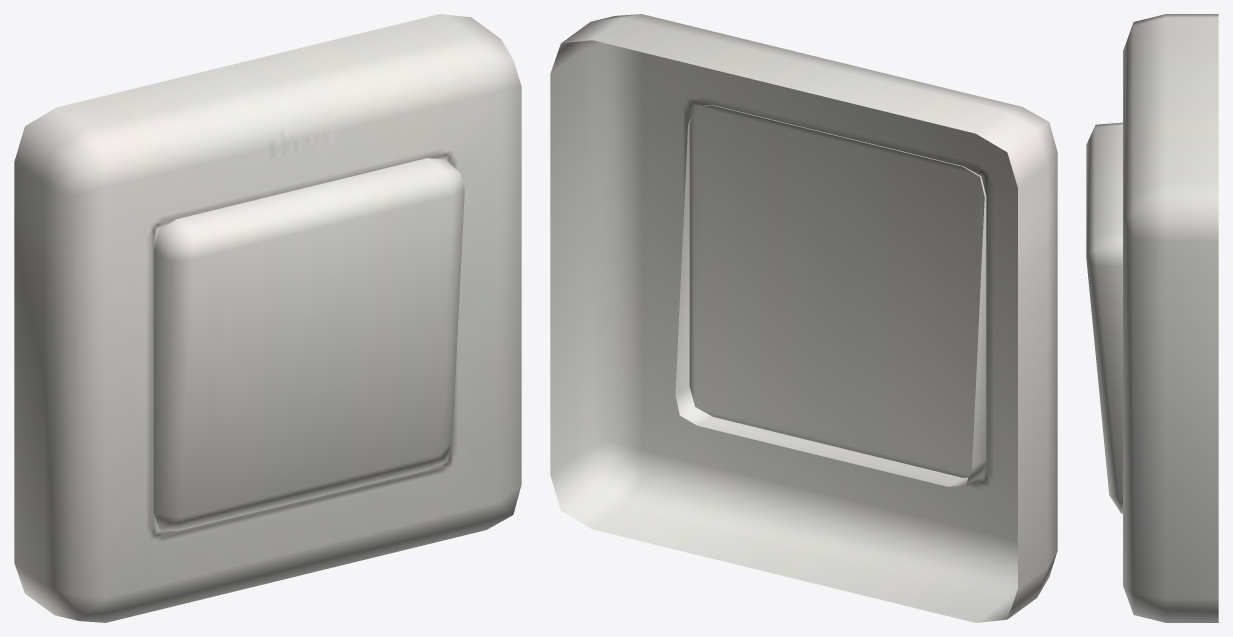
File: 3D004_Office_LightKey.FBX
3 renders of one model, left to right at view 1: azimuth 30°, elevation 25°; view 2: azimuth 150°, elevation 25°; view 3: azimuth 270°, elevation 25°, orthographic. The views are drawn at different scales.
Parts seen in each view (by area): view 1: 3D004_Office_LightKey1, 3D004_Office_LightKey2; view 2: 3D004_Office_LightKey1, 3D004_Office_LightKey2; view 3: 3D004_Office_LightKey1, 3D004_Office_LightKey2.
Part boxes in pixels (left/top/right/bottom): 3D004_Office_LightKey1: left=14, top=14, right=521, bottom=622; 3D004_Office_LightKey2: left=153, top=158, right=464, bottom=531; 3D004_Office_LightKey1: left=550, top=14, right=1057, bottom=622; 3D004_Office_LightKey2: left=675, top=105, right=986, bottom=486; 3D004_Office_LightKey1: left=1123, top=14, right=1218, bottom=622; 3D004_Office_LightKey2: left=1086, top=122, right=1122, bottom=513.
Bounding box in the file's own units: 10 × 10 × 2.76.
